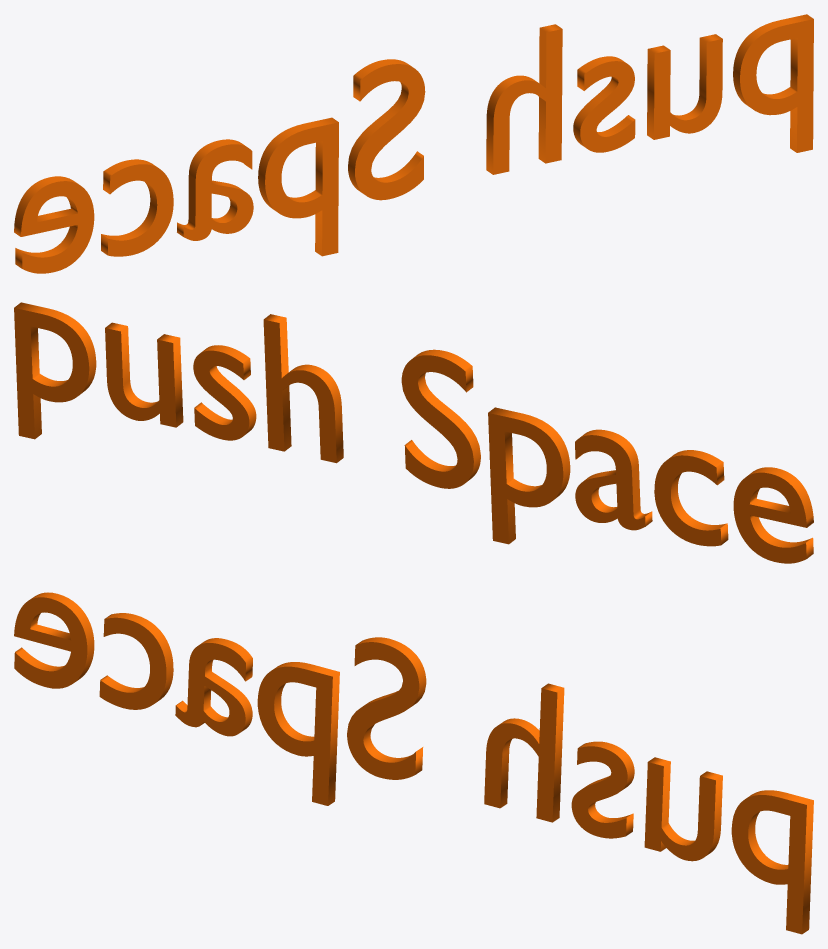
The model's file is push_Space.obj.
3 renders of one model, top to bottom at view 1: azimuth 30°, elevation 25°; view 2: azimuth 150°, elevation 25°; view 3: azimuth 330°, elevation 25°, orthographic.
Visible parts, largest first — view 1: テキスト.001; view 2: テキスト.001; view 3: テキスト.001.
Part boxes in pixels (bbox=[...]): テキスト.001: bbox=[14, 14, 813, 273]; テキスト.001: bbox=[14, 302, 813, 563]; テキスト.001: bbox=[14, 592, 813, 934].
Size of the model in its own units: 13.22 by 2.95 by 0.307.
